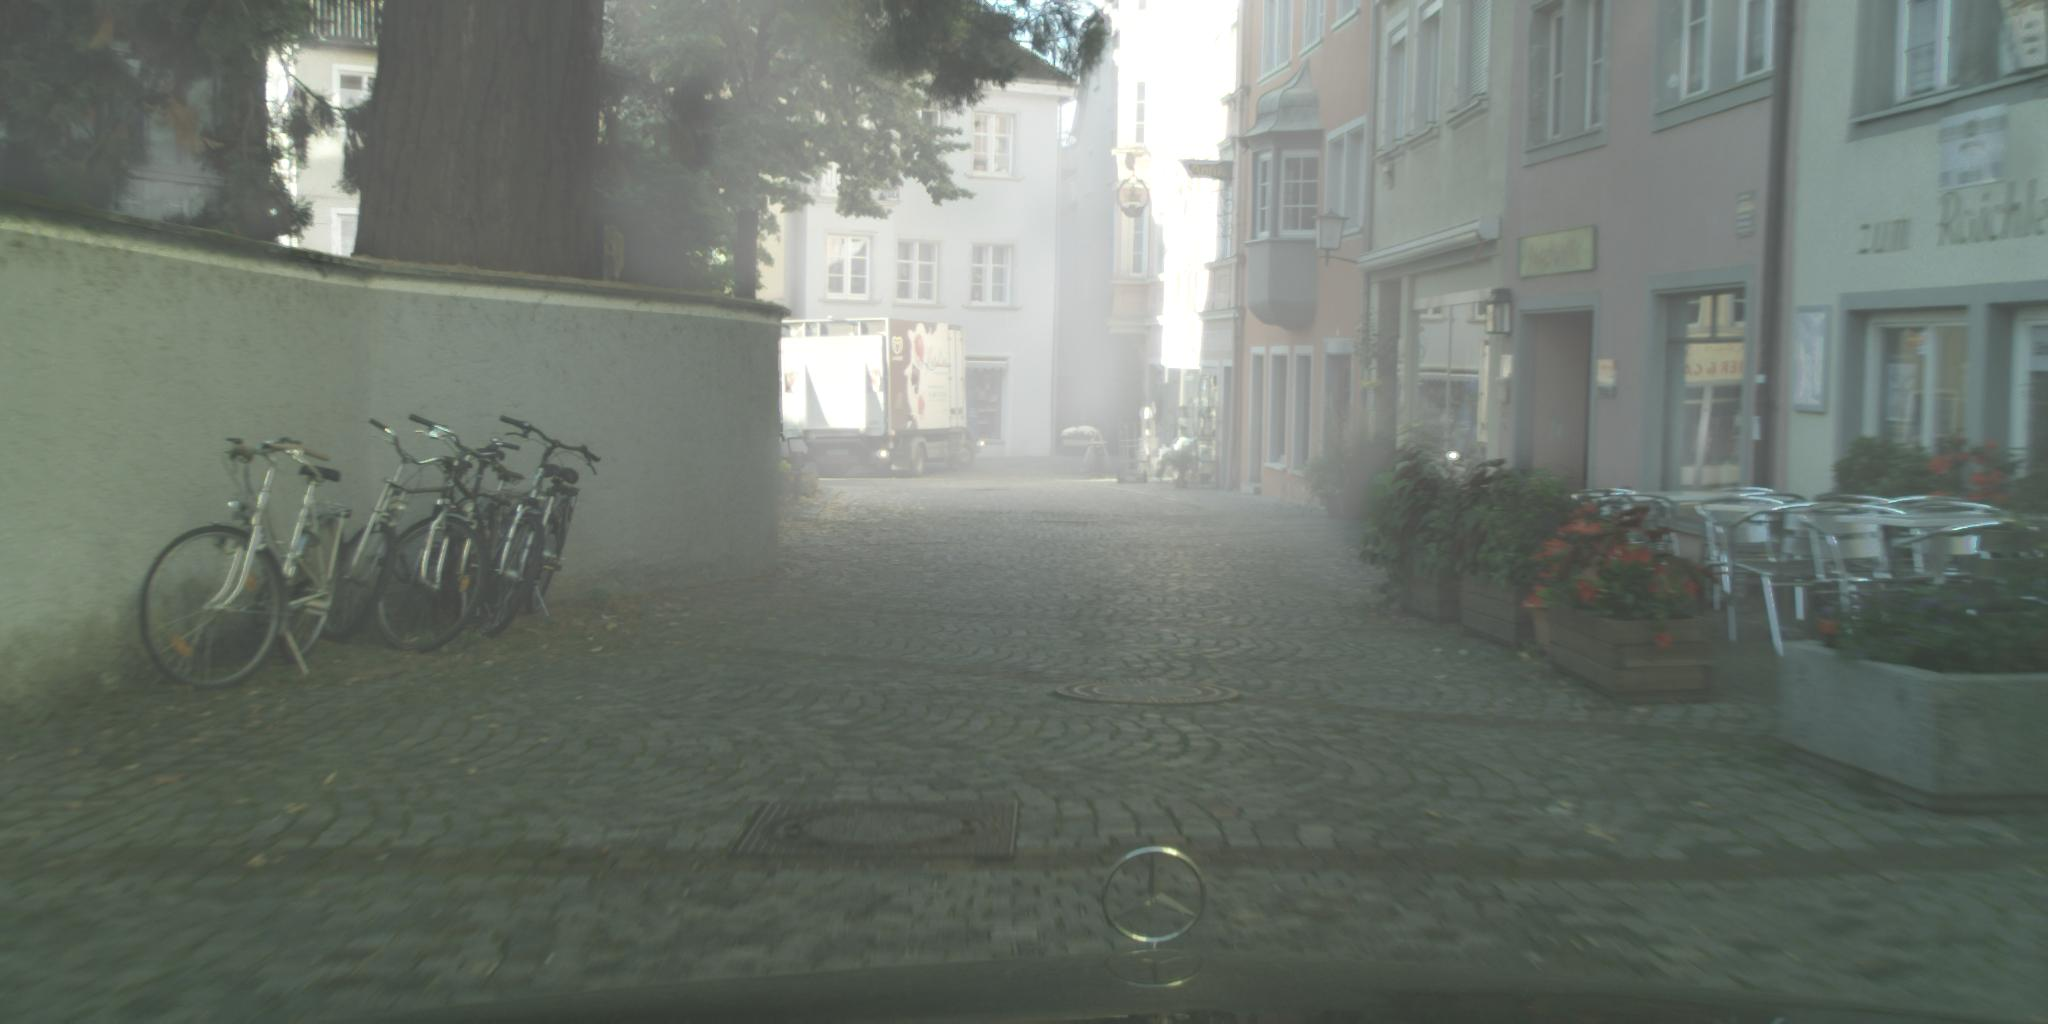bicycle: (140, 435, 350, 694)
truck: (777, 317, 982, 481)
